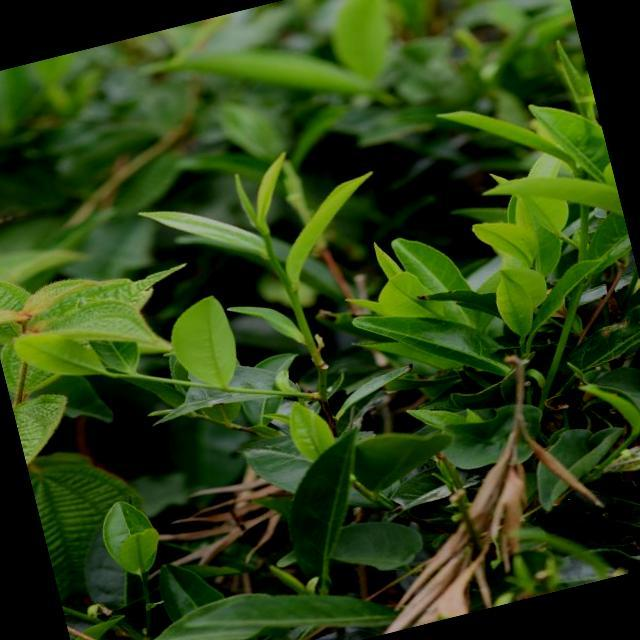Stem: (262, 232, 272, 244)
